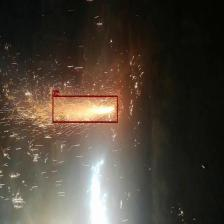fire: (52, 96, 118, 122)
